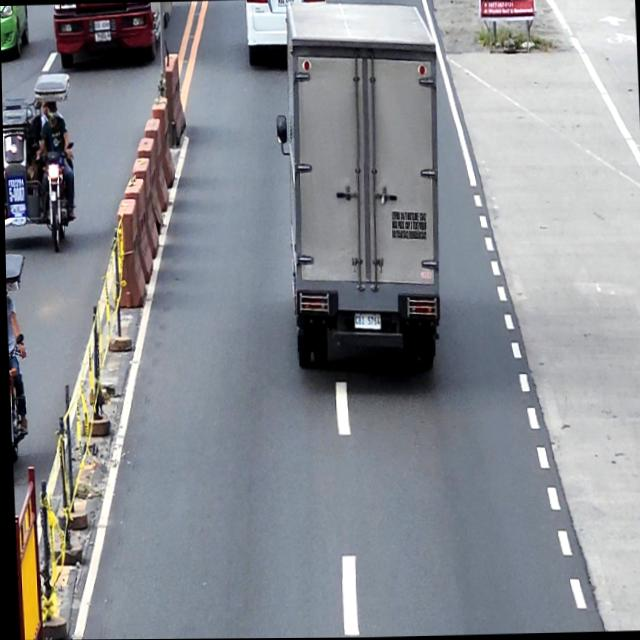Car: (0, 5, 30, 64)
License-Plate: (351, 311, 379, 331)
Tricycle: (1, 70, 78, 251), (4, 250, 28, 470)
Truck: (271, 0, 447, 372)
